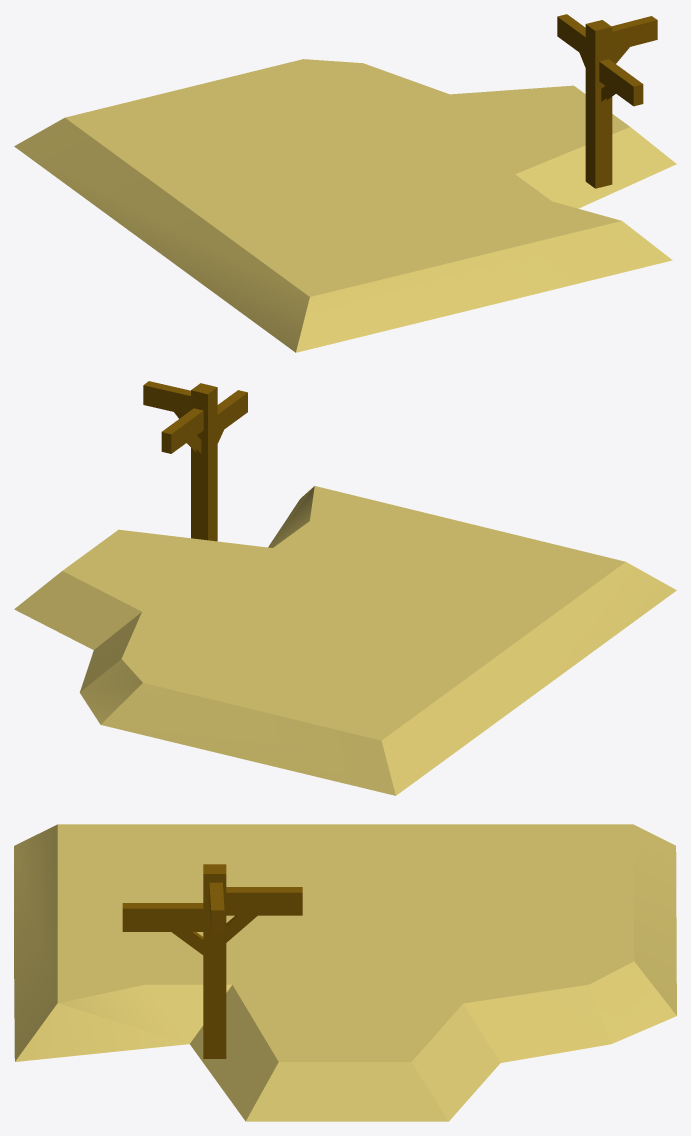
Rendered from ThreeWayHalfFilled.fbx.
3 views of the same model, one above another, from view 1: azimuth 30°, elevation 25°; view 2: azimuth 150°, elevation 25°; view 3: azimuth 270°, elevation 25° (orthographic). The views are drawn at different scales.
Parts seen in each view (by area): view 1: Normal - Three Way Half Filled; view 2: Normal - Three Way Half Filled; view 3: Normal - Three Way Half Filled.
Part boxes in pixels (x1,y1,x2,y2): Normal - Three Way Half Filled: [14, 14, 676, 352]; Normal - Three Way Half Filled: [14, 381, 676, 795]; Normal - Three Way Half Filled: [14, 824, 676, 1121].
Size of the model in its own units: 147 by 49.98 by 150.
